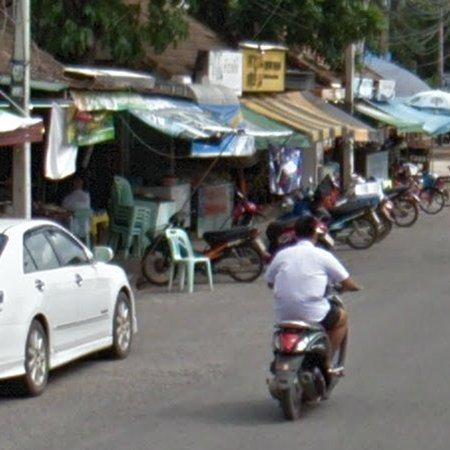motorcycles: (268, 321, 339, 420)
